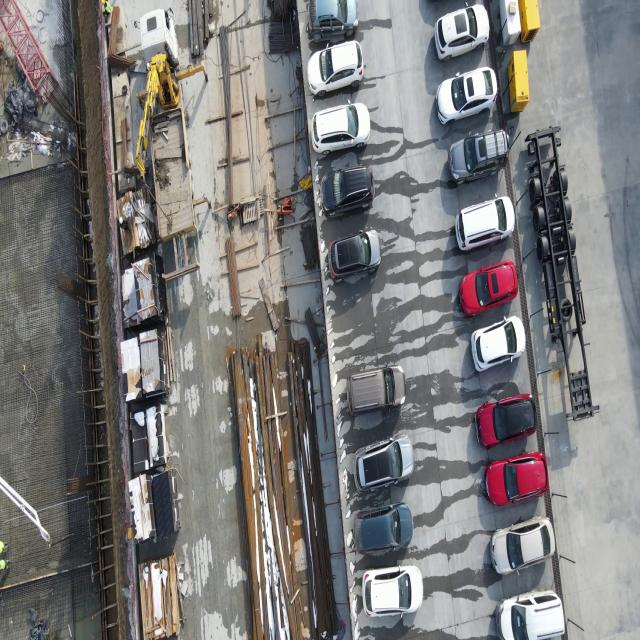p3rson: (117, 216, 133, 233), (100, 0, 112, 17), (0, 558, 12, 570), (0, 540, 10, 554), (146, 59, 151, 73)
